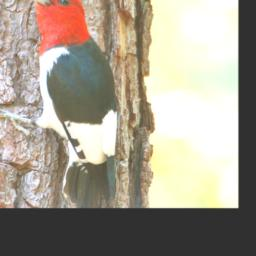Woodpecker: (0, 0, 120, 206)
